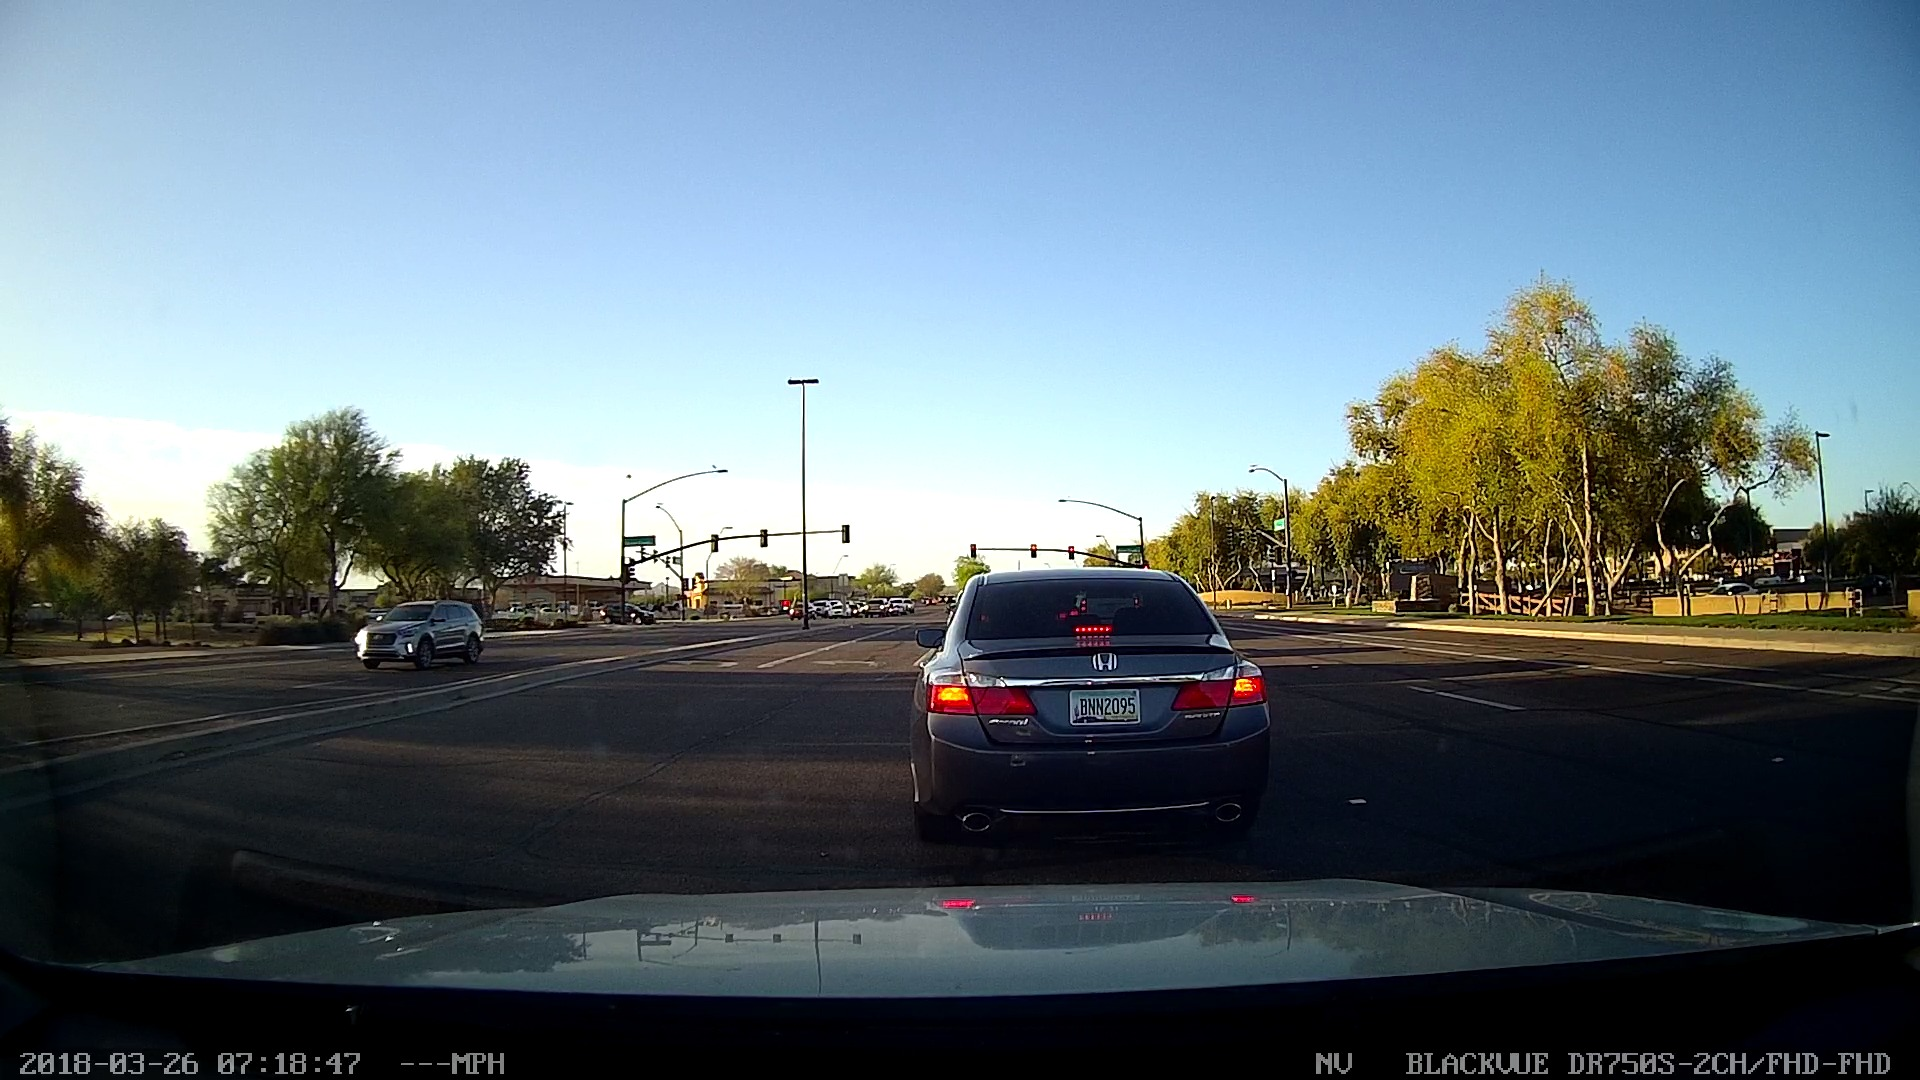vehicle: (901, 545, 1288, 843), (334, 585, 496, 679), (1060, 674, 1156, 737)
